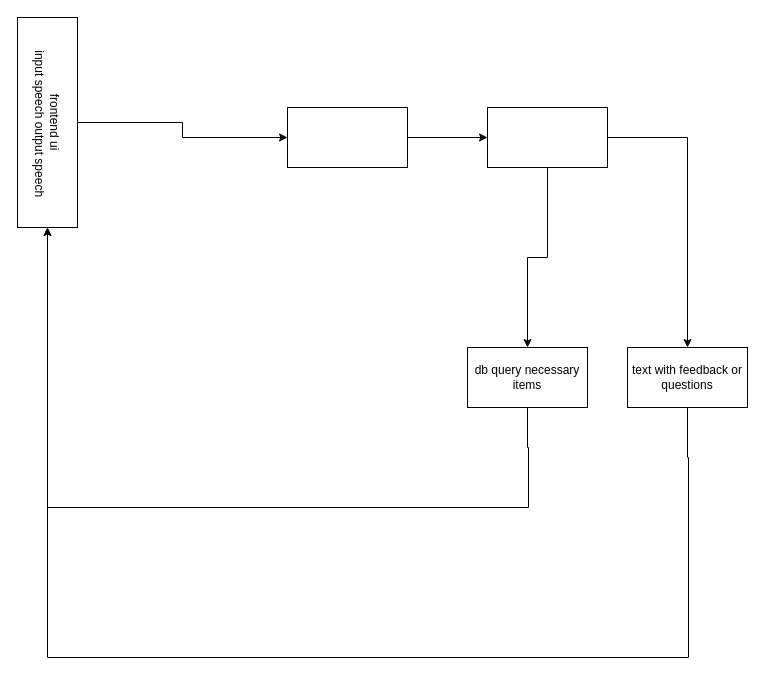
This 765x683 diagram has some shape labels left out. Each missing label, with the centre of its shape:
"gpt 4-0/claude 3.5" goes at point (547, 137).
"speech to text" goes at point (347, 137).
